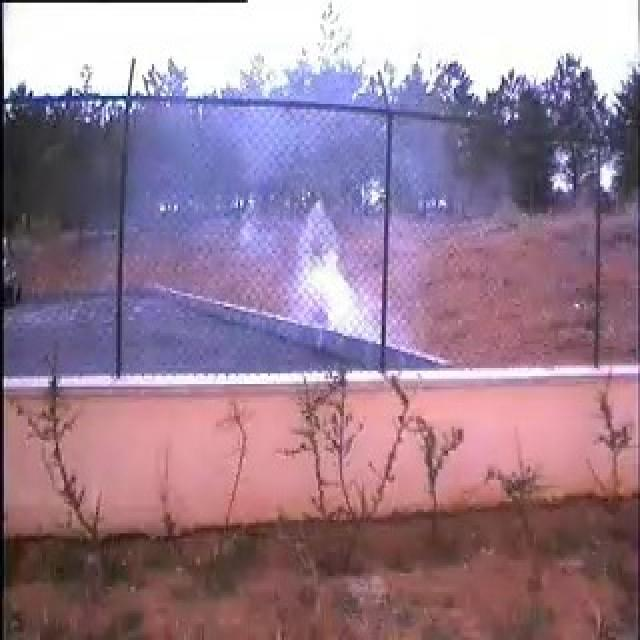smoke: (221, 122, 407, 347)
